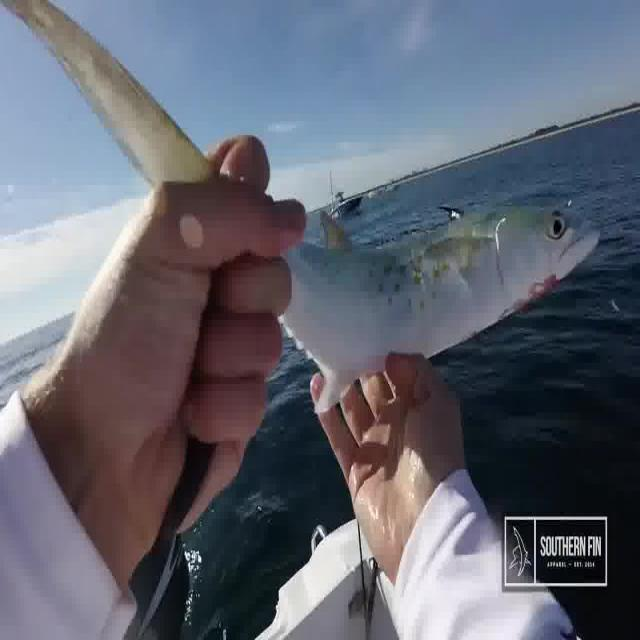Spanish Mackerel: (1, 1, 601, 561)
